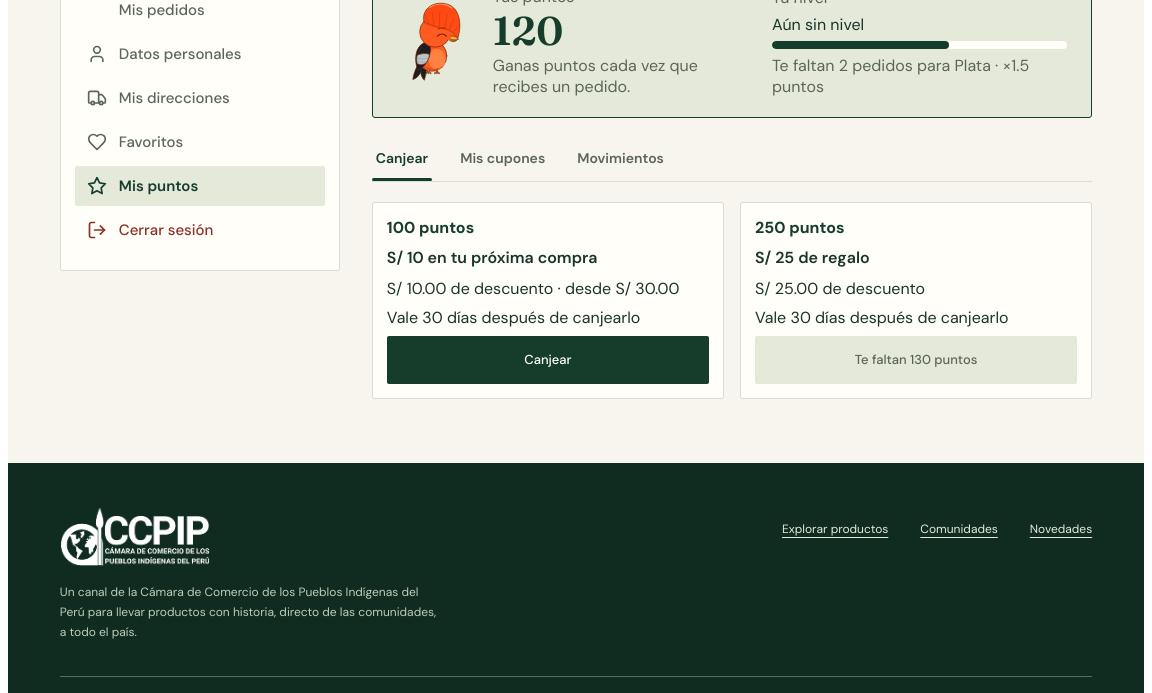
Mis puntos del comprador (CCPIP-173, 374, 88, 89) › ve su saldo, cuánto le falta para el siguiente nivel y canjea un cupón
(page scrolled)
Expected: the text "120" is shown, x1=493 y1=6 x2=563 y2=55
Expected: the progress indicator named "Te faltan 2 pedidos para Plata" is shown, x1=772 y1=40 x2=1067 y2=48
Click the button with aria-label "Canjear S/ 10 en tu próxima compra": click(548, 360) x1=387 y1=336 x2=709 y2=384
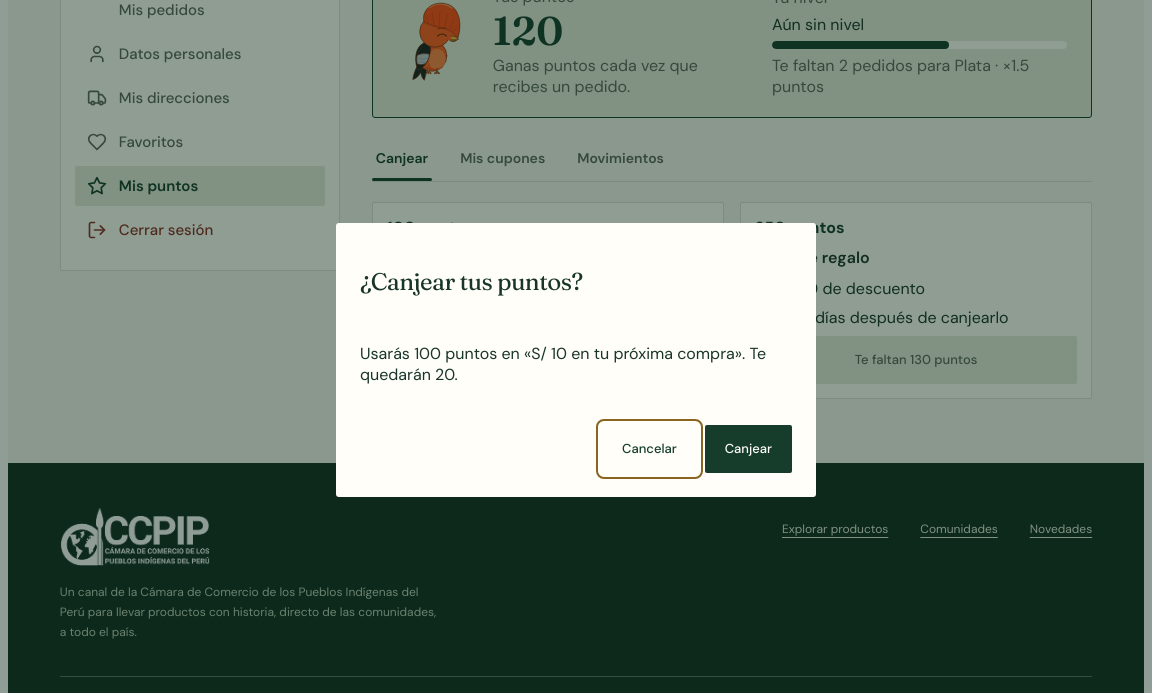
Expected: the text "Usarás 100 puntos en «S/ 10 en tu próxima compra». Te quedarán 20." is shown, x1=360 y1=343 x2=792 y2=385
Click the button "Canjear": click(748, 449) x1=705 y1=425 x2=792 y2=473
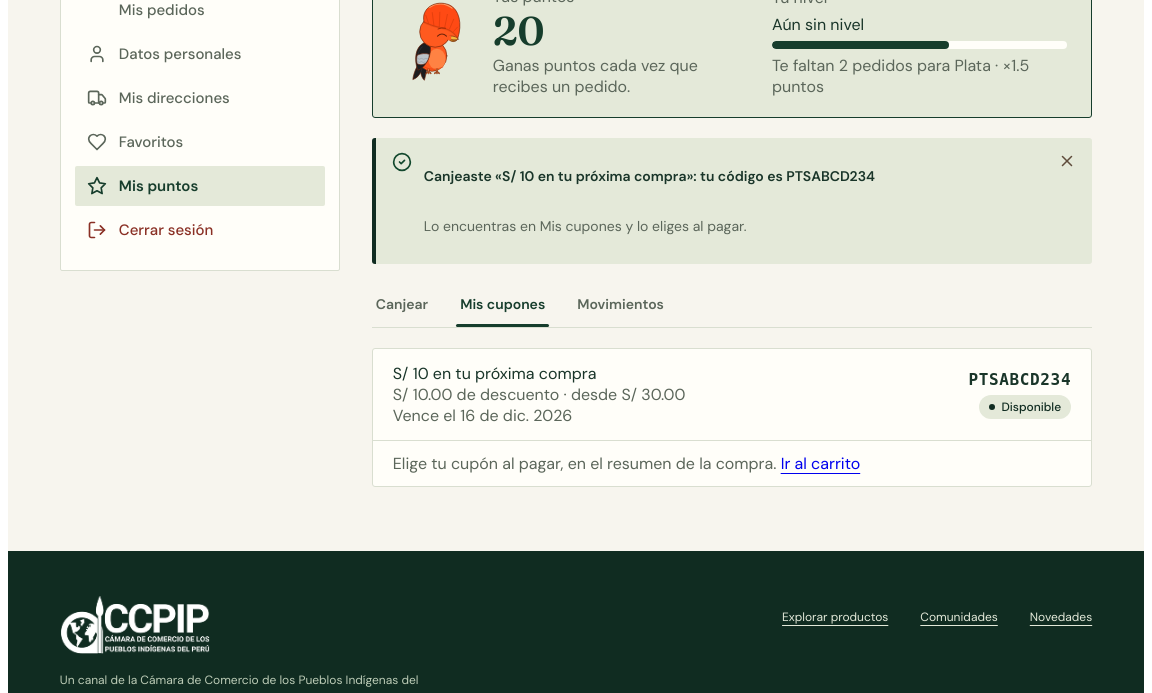
Expected: the text "Canjeaste «S/ 10 en tu próxima compra»: tu código es PTSABCD234" is shown, x1=424 y1=167 x2=875 y2=185
Expected: the text "PTSABCD234" is shown, x1=968 y1=370 x2=1071 y2=389
Expected: the text "Disponible" is shown, x1=979 y1=395 x2=1071 y2=419
